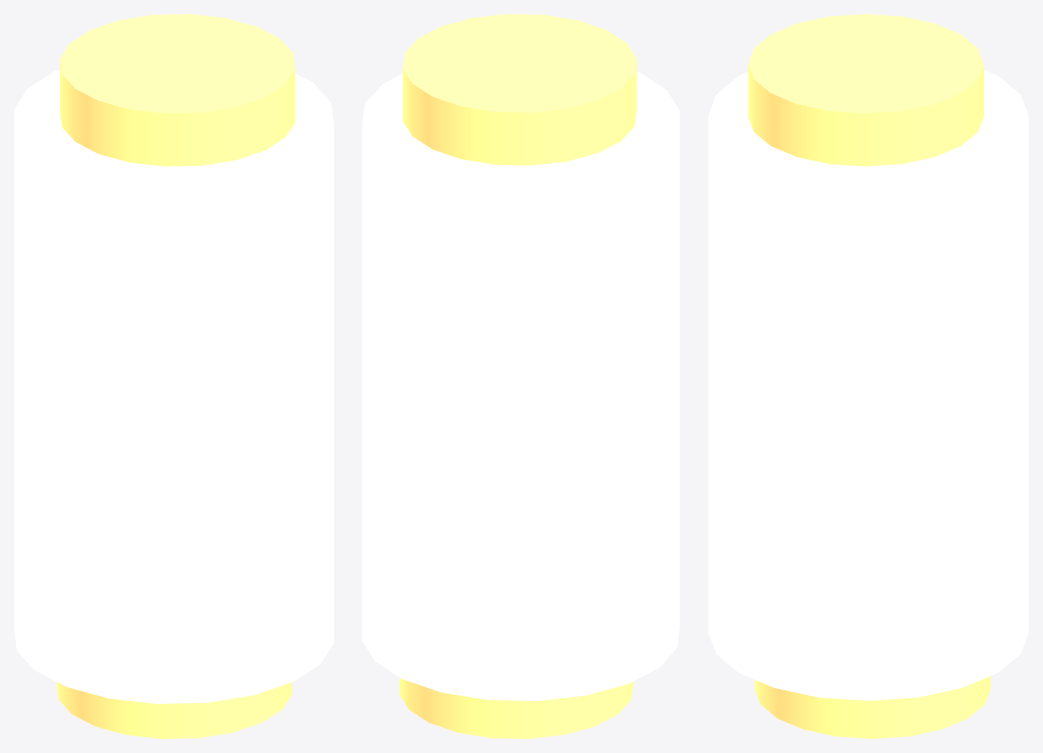
3 views of the same model, side by side, from view 1: azimuth 30°, elevation 25°; view 2: azimuth 150°, elevation 25°; view 3: azimuth 270°, elevation 25° (orthographic).
Visible parts, largest first — view 1: pCylinder9 group2 group, group2 group pCylinder7, group2 group pCylinder8; view 2: pCylinder9 group2 group, group2 group pCylinder7, group2 group pCylinder8; view 3: pCylinder9 group2 group, group2 group pCylinder7, group2 group pCylinder8.
Part boxes in pixels (x1,y1,x2,y2): pCylinder9 group2 group: (14,69,333,703); group2 group pCylinder7: (60,14,295,166); group2 group pCylinder8: (56,682,291,738); pCylinder9 group2 group: (362,71,679,700); group2 group pCylinder7: (403,14,636,165); group2 group pCylinder8: (399,678,633,738); pCylinder9 group2 group: (708,70,1028,700); group2 group pCylinder7: (748,14,983,166); group2 group pCylinder8: (755,676,990,738).
Bounding box in the file's own units: 2 × 4.31 × 2.
